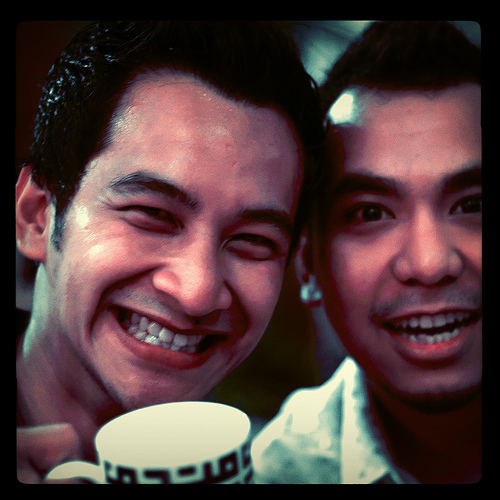without_mask: (40, 57, 300, 409), (284, 66, 500, 396)
